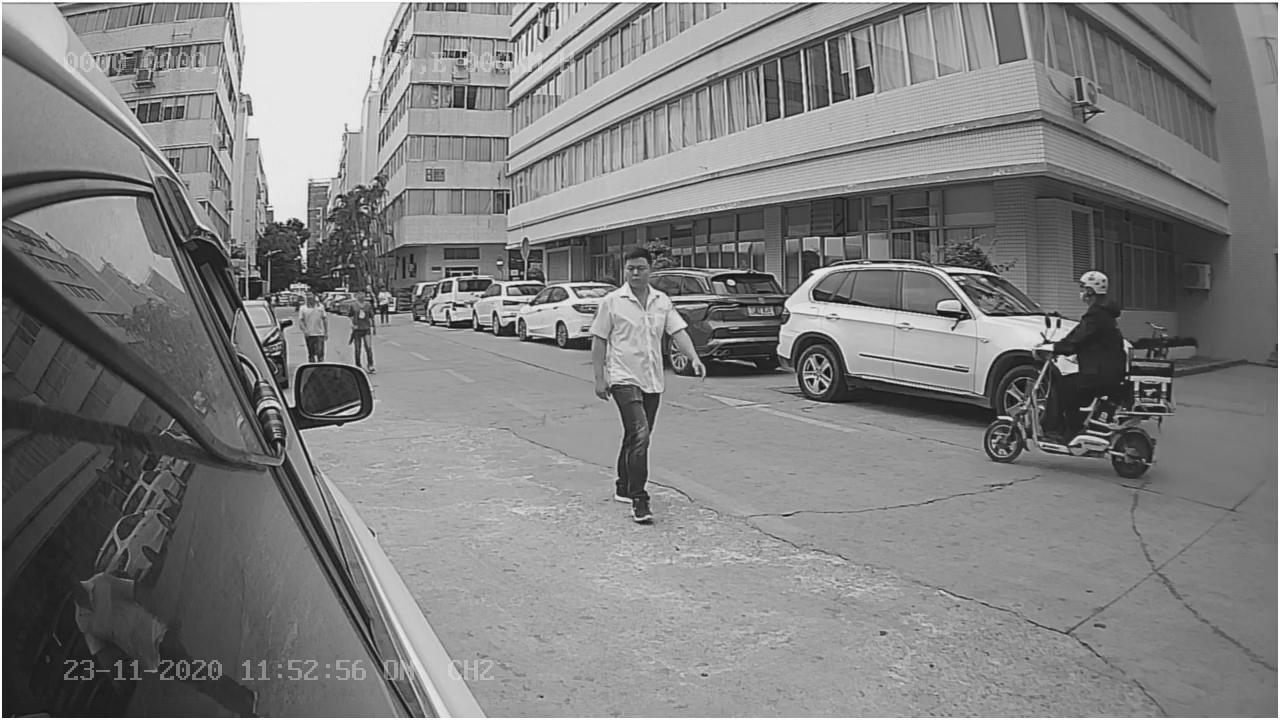person: (595, 250, 681, 506)
